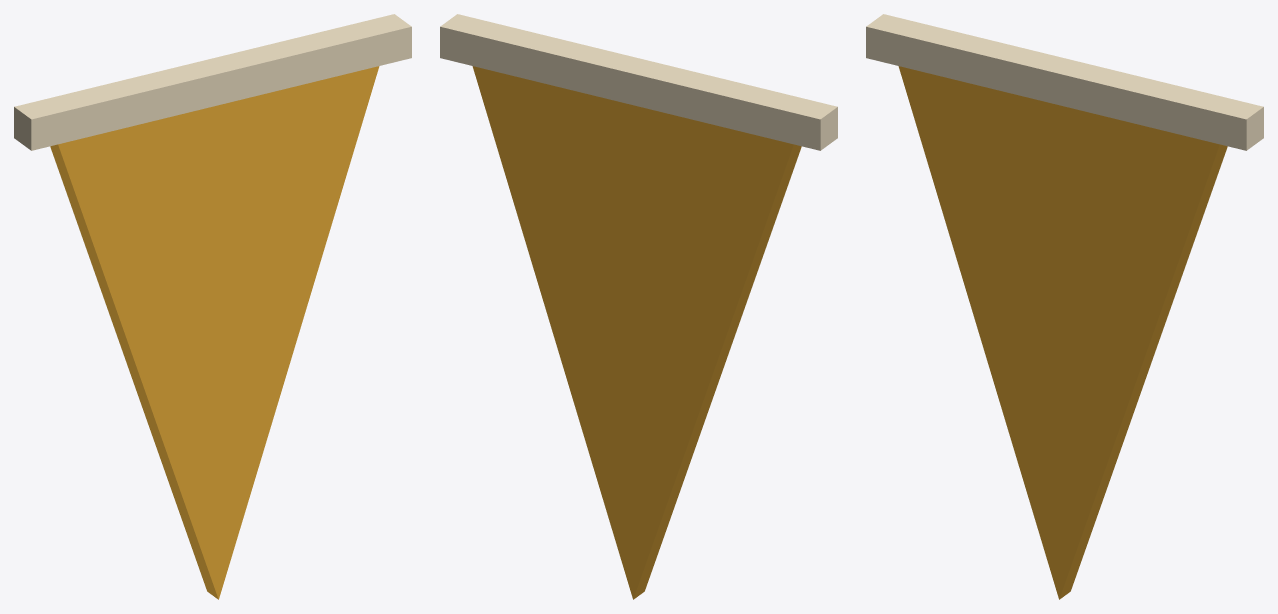
File: rt_pennant_a.glb
3 renders of one model, left to right at view 1: azimuth 30°, elevation 25°; view 2: azimuth 150°, elevation 25°; view 3: azimuth 330°, elevation 25°, orthographic.
Parts seen in each view (by area): view 1: rt_pennant_a_body; view 2: rt_pennant_a_body; view 3: rt_pennant_a_body.
Part boxes in pixels (left/top/right/bottom): rt_pennant_a_body: left=14, top=14, right=411, bottom=599; rt_pennant_a_body: left=440, top=14, right=837, bottom=599; rt_pennant_a_body: left=866, top=14, right=1263, bottom=599.
Bounding box in the file's own units: 0.38 × 0.505 × 0.03.
